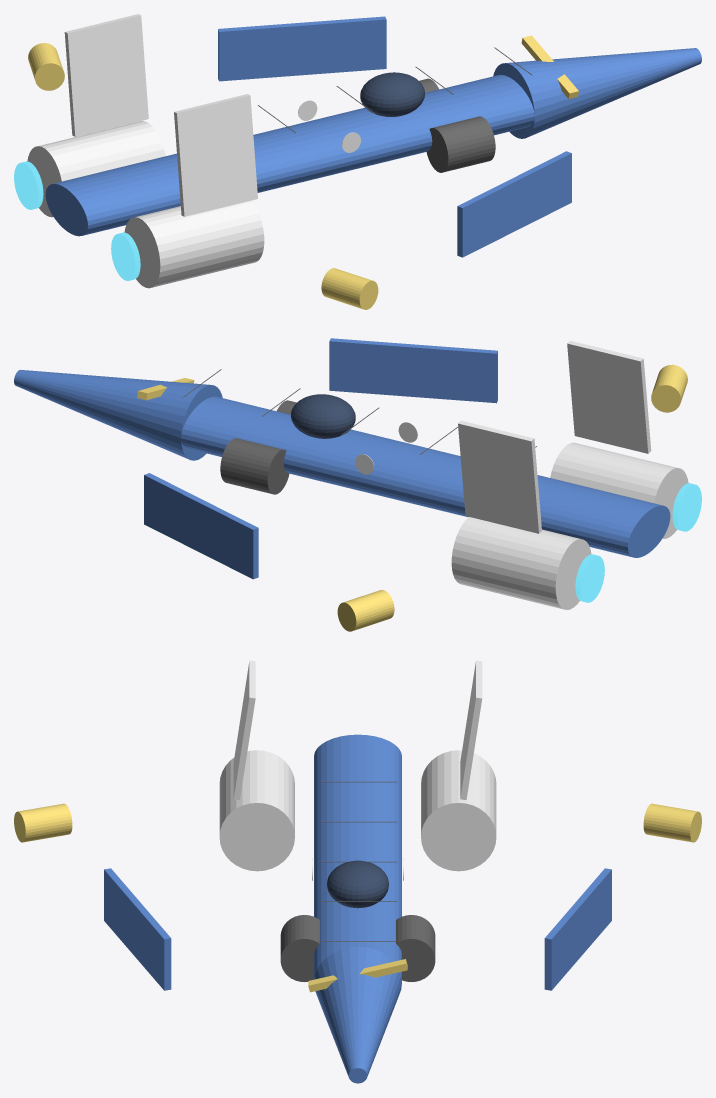
The model's file is starfighter_v7_reference.gltf.
3 renders of one model, top to bottom at view 1: azimuth 30°, elevation 25°; view 2: azimuth 150°, elevation 25°; view 3: azimuth 270°, elevation 25°, orthographic. The views are drawn at different scales.
Visible parts, largest first — view 1: Fuselage_Main, Wing_1, Engine_-1, Nose, Stabilizer_1, Stabilizer_-1, Wing_-1, Rear, Engine_1, Intake_-1, Canopy, WingTip_-1 (+4 smaller); view 2: Fuselage_Main, Wing_-1, Engine_1, Nose, Stabilizer_-1, Stabilizer_1, Wing_1, Rear, Engine_-1, Intake_1, Canopy, WingTip_1 (+3 smaller); view 3: Fuselage_Main, Engine_-1, Engine_1, Nose, Wing_-1, Wing_1, Rear, Canopy, Intake_-1, Intake_1, WingTip_-1, WingTip_1 (+3 smaller).
Part boxes in pixels (<box>): Fuselage_Main: <box>132,75,534,209</box>; Wing_1: <box>218,16,386,81</box>; Engine_-1: <box>124,200,264,288</box>; Nose: <box>493,48,701,138</box>; Stabilizer_1: <box>64,14,148,136</box>; Stabilizer_-1: <box>174,94,257,216</box>; Wing_-1: <box>457,151,571,257</box>; Rear: <box>45,164,166,236</box>; Engine_1: <box>27,120,165,217</box>; Intake_-1: <box>426,116,495,172</box>; Canopy: <box>360,72,424,116</box>; WingTip_-1: <box>321,268,378,309</box>; Fuselage_Main: <box>181,396,584,530</box>; Wing_-1: <box>329,338,497,403</box>; Engine_1: <box>451,517,591,609</box>; Nose: <box>14,370,222,460</box>; Stabilizer_-1: <box>567,340,651,453</box>; Stabilizer_1: <box>458,420,541,533</box>; Wing_1: <box>144,473,258,579</box>; Rear: <box>549,486,670,557</box>; Engine_-1: <box>550,442,688,538</box>; Intake_1: <box>220,438,289,494</box>; Canopy: <box>291,394,355,438</box>; WingTip_1: <box>337,590,394,631</box>; Fuselage_Main: <box>314,774,401,980</box>; Engine_-1: <box>219,750,294,871</box>; Engine_1: <box>421,750,496,871</box>; Nose: <box>314,946,401,1083</box>; Wing_-1: <box>104,868,171,990</box>; Wing_1: <box>544,868,611,990</box>; Rear: <box>314,734,401,794</box>; Canopy: <box>327,860,388,908</box>; Intake_-1: <box>280,915,319,981</box>; Intake_1: <box>396,915,435,981</box>; WingTip_-1: <box>14,803,72,842</box>; WingTip_1: <box>643,803,701,842</box>.
Bounding box in the file's own units: 12 × 3.05 × 10.93.
